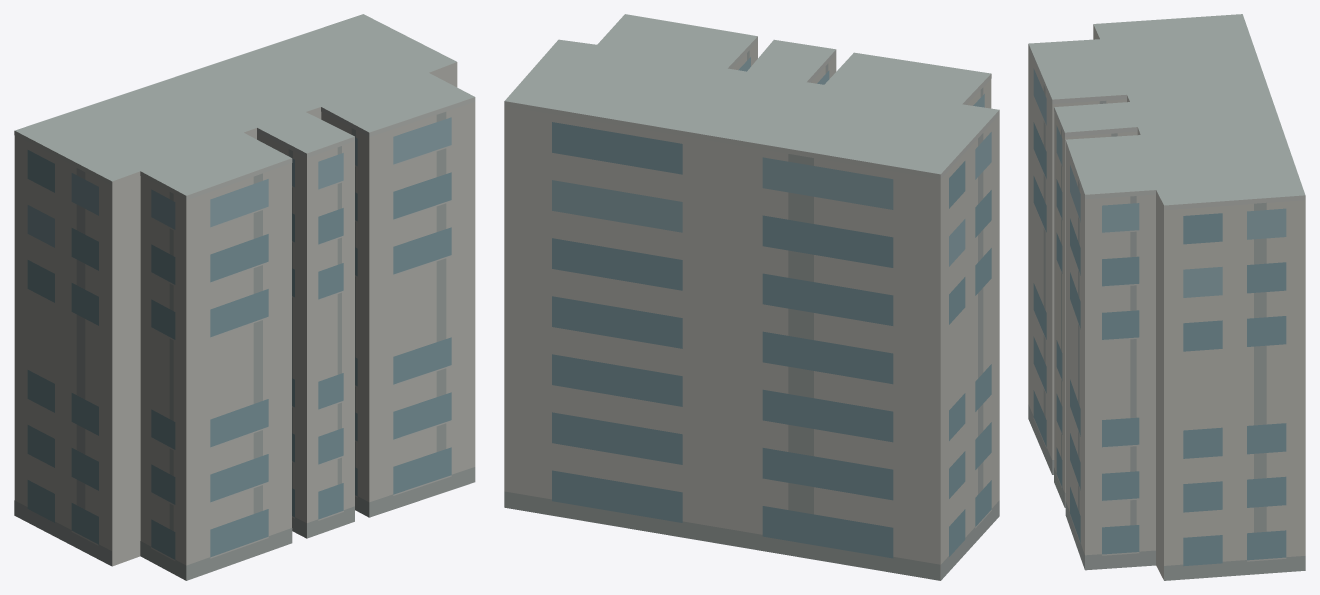
The model's file is survey-upis-32717018.glb.
3 views of the same model, side by side, from view 1: azimuth 30°, elevation 25°; view 2: azimuth 150°, elevation 25°; view 3: azimuth 270°, elevation 25° (orthographic). The views are drawn at different scales.
Visible parts, largest first — view 1: survey-upis-32717018.tmp; view 2: survey-upis-32717018.tmp; view 3: survey-upis-32717018.tmp.
Boxes of the visible parts, x1,y1,x2,y2 form: survey-upis-32717018.tmp: (14, 14, 475, 580); survey-upis-32717018.tmp: (504, 14, 999, 580); survey-upis-32717018.tmp: (1028, 14, 1305, 580).
Bounding box in the file's own units: 21.45 × 19.6 × 13.12.
